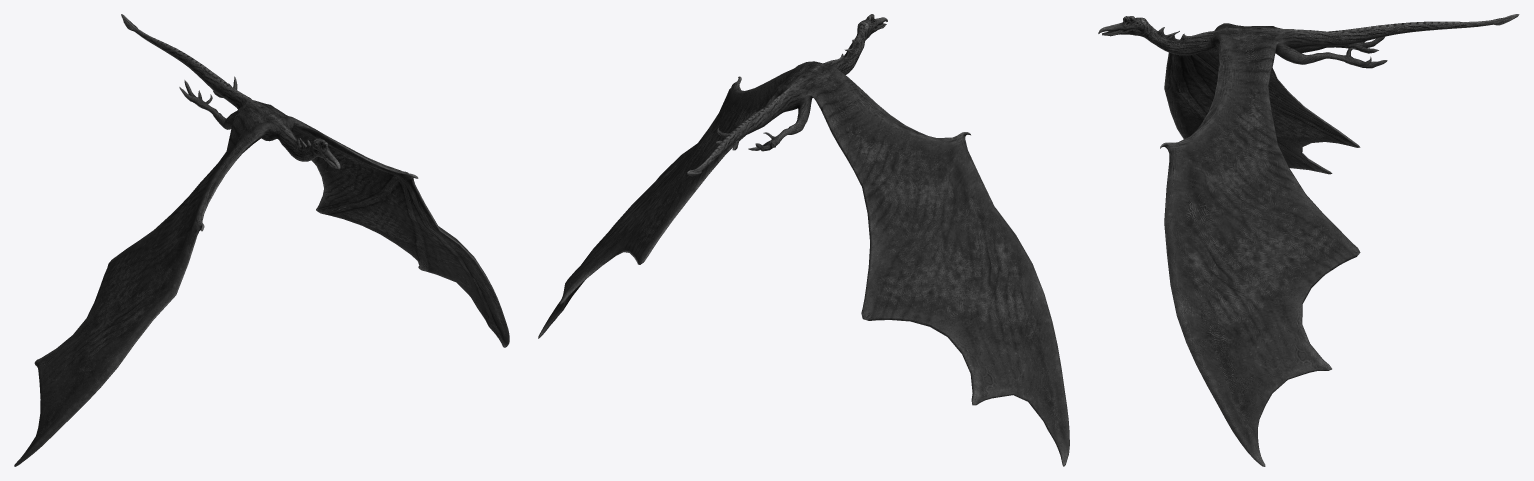
The model's file is Fellbeast_FlyAnim_25.obj.
The picture shows the model from 3 angles, left to right: view 1: azimuth 30°, elevation 25°; view 2: azimuth 150°, elevation 25°; view 3: azimuth 270°, elevation 25°; orthographic projection. The views are drawn at different scales.
Visible parts, largest first — view 1: Fellbeast; view 2: Fellbeast; view 3: Fellbeast.
Boxes of the visible parts, x1,y1,x2,y2 form: Fellbeast: [14, 14, 509, 466]; Fellbeast: [538, 14, 1069, 466]; Fellbeast: [1098, 14, 1519, 466].
Size of the model in its own units: 6.16 by 3.76 by 4.39.
